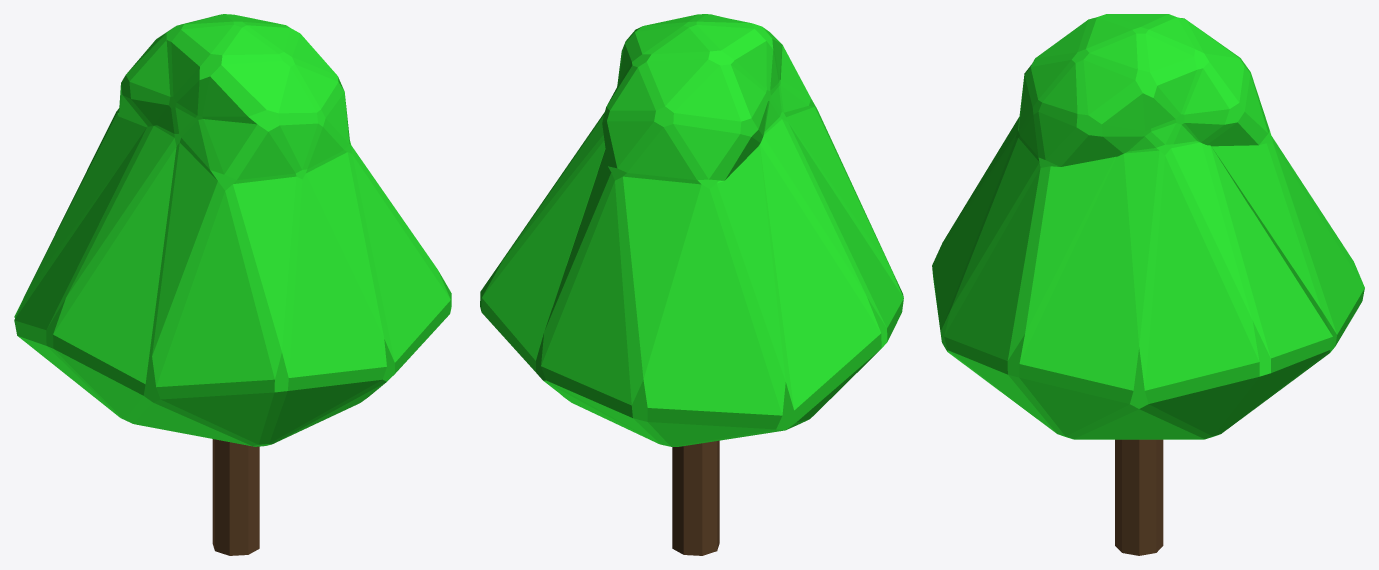
Rendered from Wood_1.fbx.
3 renders of one model, left to right at view 1: azimuth 30°, elevation 25°; view 2: azimuth 150°, elevation 25°; view 3: azimuth 270°, elevation 25°, orthographic.
Visible parts, largest first — view 1: Icosphere, Cylinder; view 2: Icosphere, Cylinder; view 3: Icosphere, Cylinder.
Part boxes in pixels (x1,y1,x2,y2): Icosphere: (14, 14, 451, 446); Cylinder: (212, 439, 259, 555); Icosphere: (480, 14, 903, 446); Cylinder: (672, 440, 719, 555); Icosphere: (932, 14, 1364, 439); Cylinder: (1115, 439, 1163, 555).
Size of the model in its own units: 718 by 973 by 737.
